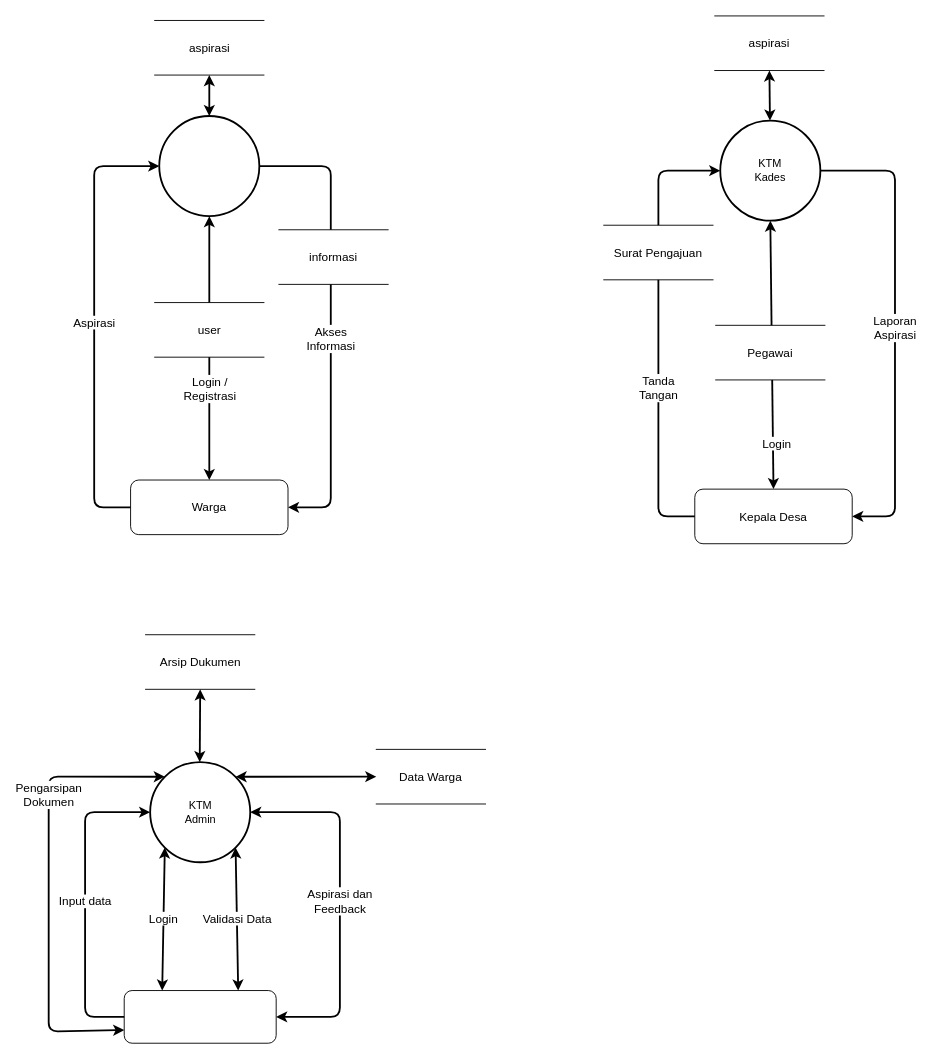
Some shapes in this 933 by 1059 pixel diagram are drawn without their labels. The shapes that lost their labels are listed below. From the top down, each one's centre as x and y in pixels, then its label:
point (209, 166): KTM Warga
point (199, 1016): Admin Desa
